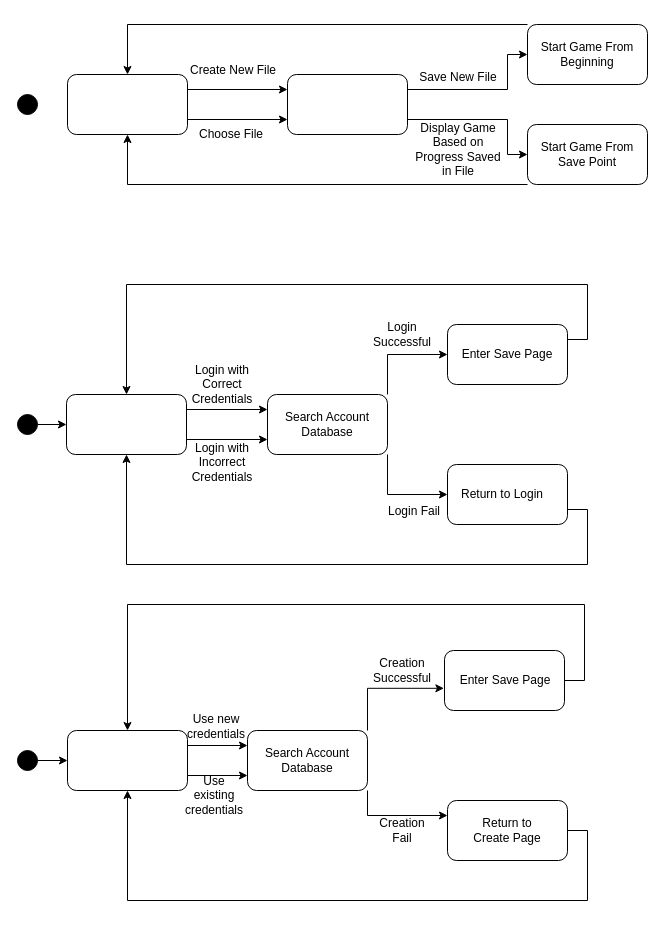
The diagram is 665 pixels wide and 926 high, and some of its shapes have lost their labels. The centre of each missing label's shape, as x and y in pixels:
"Create Account" goes at [127,760].
"Login Procedure" goes at [126,424].
"Select Save File" goes at [127,104].
"Verify with Database" goes at [347,104].
